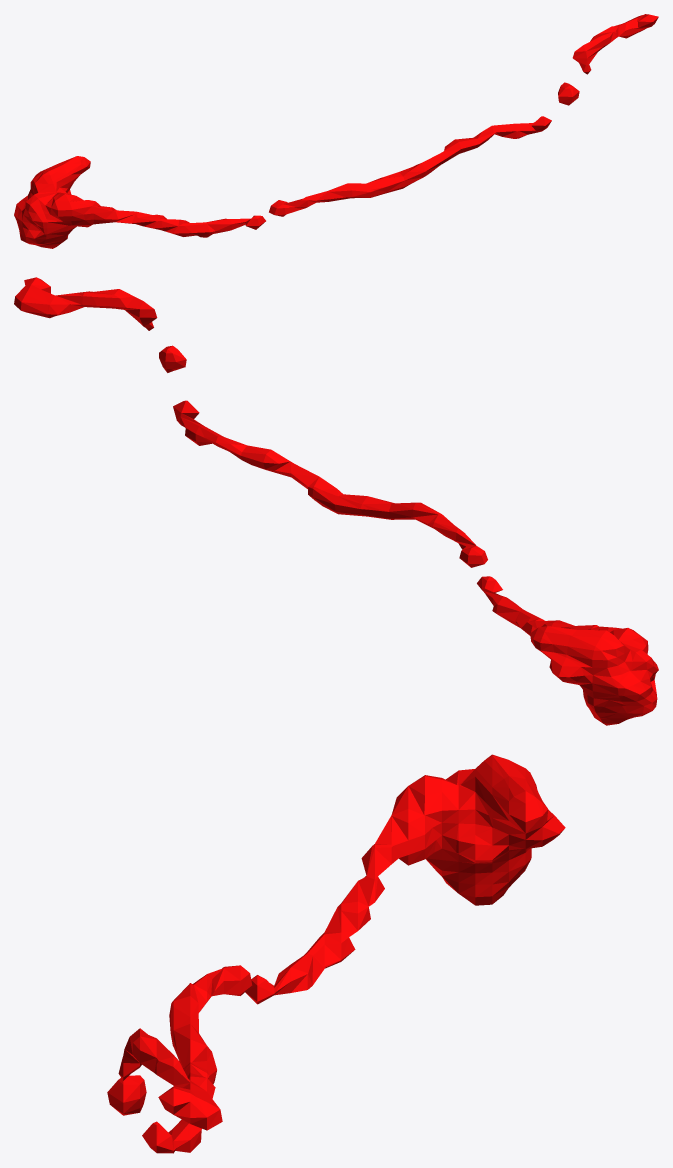
File: gutQ_coarse.dae
3 renders of one model, top to bottom at view 1: azimuth 30°, elevation 25°; view 2: azimuth 150°, elevation 25°; view 3: azimuth 270°, elevation 25°, orthographic. The views are drawn at different scales.
Parts seen in each view (by area): view 1: gutQ; view 2: gutQ; view 3: gutQ.
Part boxes in pixels (left/top/right/bottom): gutQ: left=14, top=14, right=658, bottom=248; gutQ: left=14, top=277, right=658, bottom=725; gutQ: left=107, top=754, right=565, bottom=1153.
Bounding box in the file's own units: 385 × 106 × 136.
